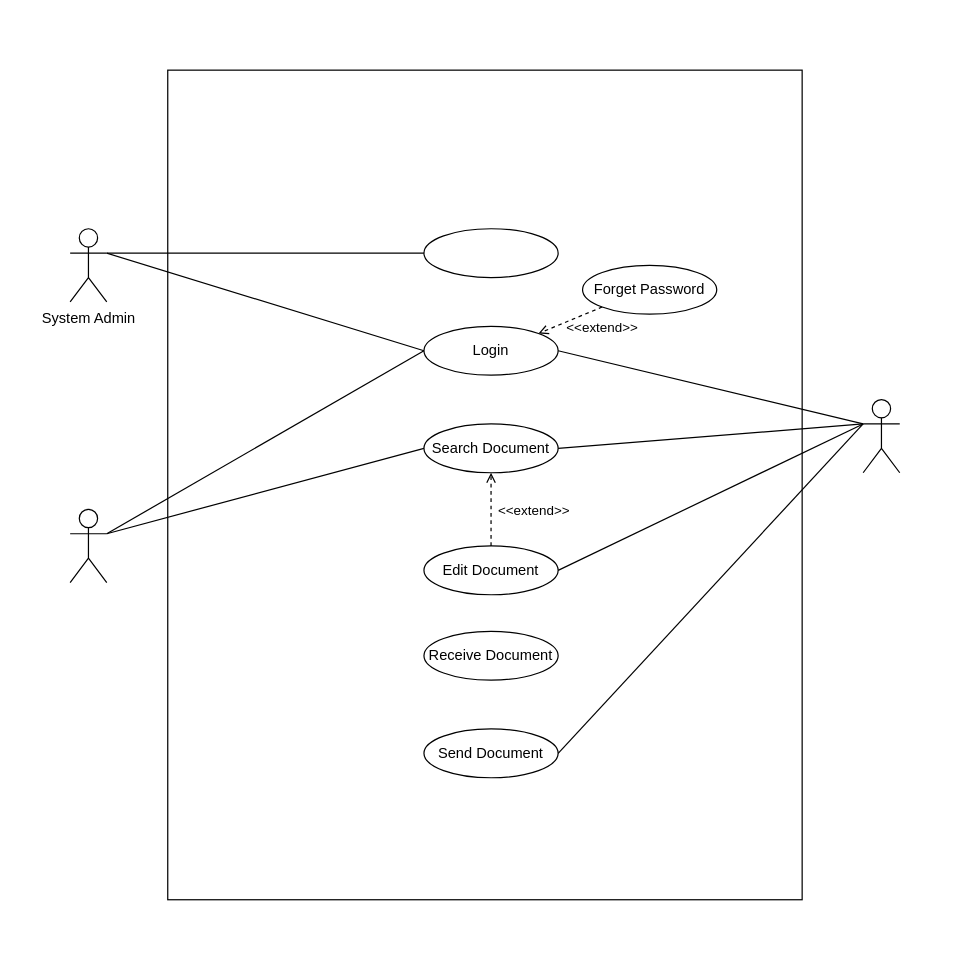
The diagram is 969 pixels wide and 969 high, and some of its shapes have lost their labels. The centre of each missing label's shape, as x and y in pixels:
"Manage Account" goes at pixel 490 253.
"อาจารย์" goes at pixel 88 545.
"เจ้าหน้าที่" goes at pixel 881 435.
